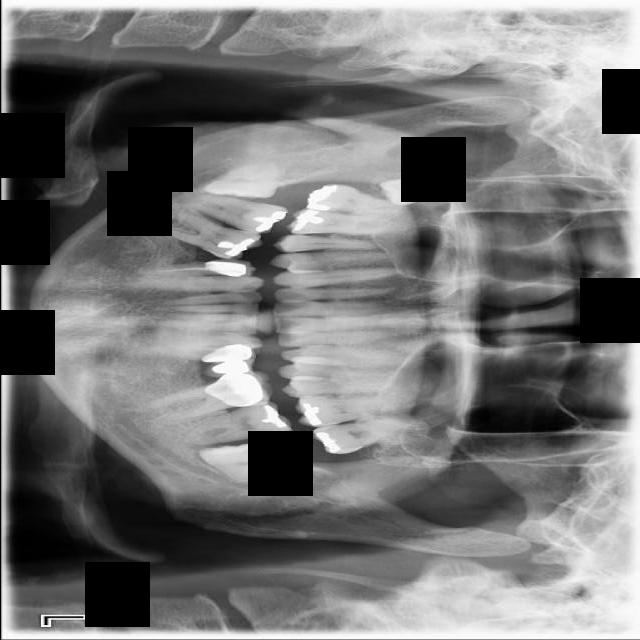3M ESPE Implant: (377, 172, 461, 208)
52: (199, 342, 274, 409), (201, 216, 265, 272), (229, 396, 294, 443), (224, 198, 288, 239), (310, 420, 365, 457), (293, 393, 346, 430), (285, 206, 348, 236), (305, 183, 363, 211), (202, 257, 257, 278)
73: (142, 261, 209, 278), (94, 594, 104, 599)
BioHorizons Implant: (310, 410, 430, 458)
Biomet 3i Implant: (197, 439, 277, 491)
Blue Sky Bio Implant: (180, 397, 292, 448)
Caries: (304, 180, 410, 221)
Implant: (179, 189, 288, 239)
Keystone Dental Implant: (204, 152, 285, 200)
